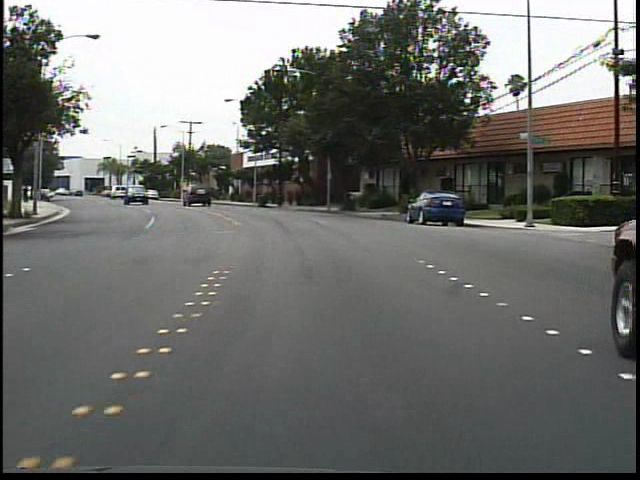person: (18, 179, 37, 208)
